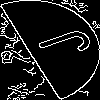J: (25, 25, 95, 67)
